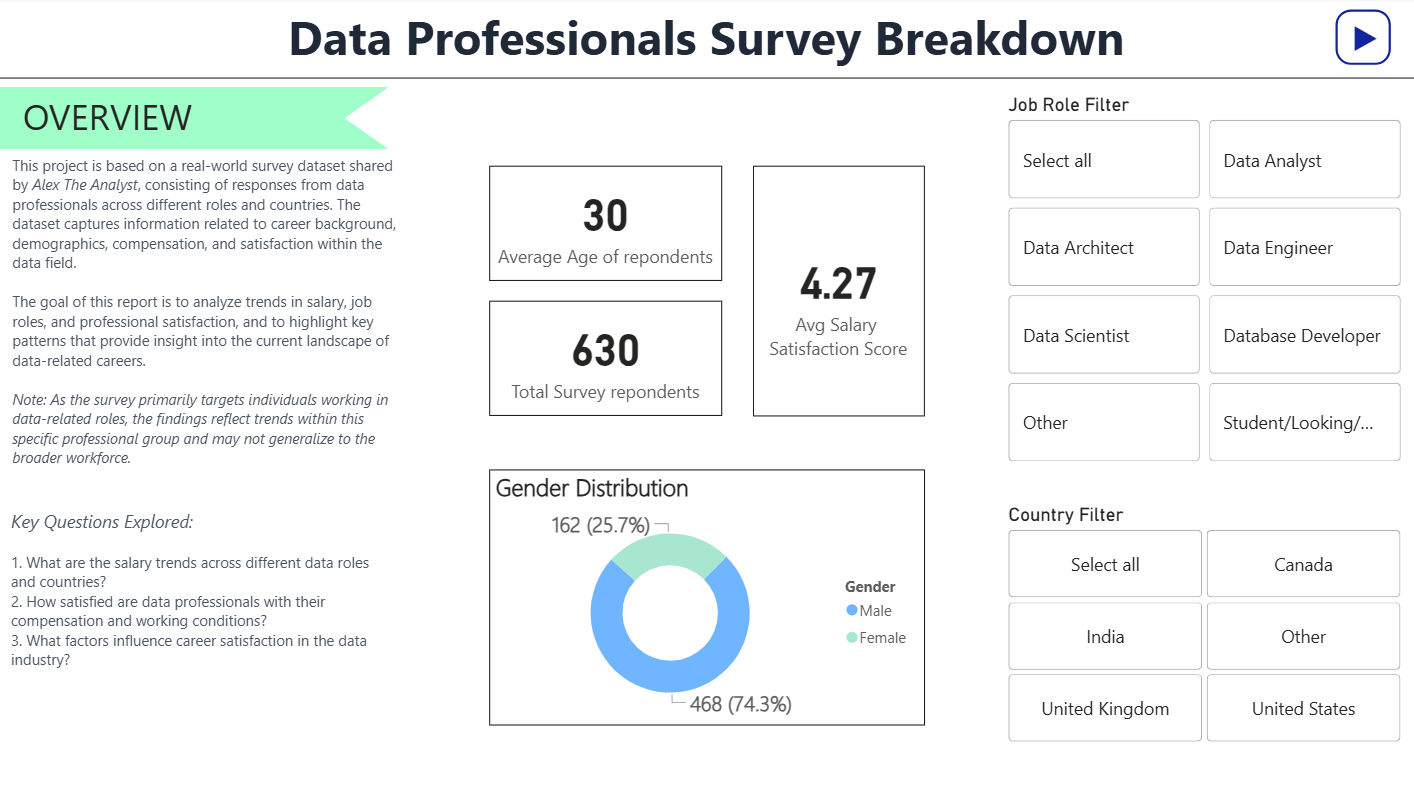

This screenshot's page, from the dashboard's own definition file:
{"tool":"powerbi","page":{"name":"Overview","canvas":[1280,720],"ordinal":0},"visuals":[{"type":"textbox","box":[0,0,1280.2,73.3],"z":0},{"type":"textbox","box":[7.5,137.8,358.2,301.8],"z":1000},{"type":"card","fields":{"Values":["Data Professional Survey.Unique ID"]},"box":[443.3,274.9,210.8,104.2],"z":2000},{"type":"card","fields":{"Values":["Data Professional Survey.Q10 - Current Age"]},"box":[443.3,152.6,210.8,104.2],"z":3000},{"type":"advancedSlicerVisual","fields":{"Values":["Data Professional Survey.Q11 - Which Country do you live in?"]},"box":[908.1,457,364.2,222],"z":4000},{"type":"advancedSlicerVisual","fields":{"Values":["Data Professional Survey.Q1 - Which Title Best Fits your Current Role?"]},"box":[908.1,86.9,364.2,340.7],"z":5000},{"type":"donutChart","title":"Gender Distribution","fields":{"Category":["Data Professional Survey.Q9 - Male/Female?"],"Y":["Data Professional Survey.Unique ID"]},"box":[443.3,426.3,393.6,231.3],"z":7000},{"type":"actionButton","box":[1208.1,11.6,50,50],"z":8000},{"type":"card","fields":{"Values":["Data Professional Survey.Q6 - How Happy are you in your Current Position with the following? (Salary)"]},"box":[681.9,152.6,155,226.5],"z":9000},{"type":"textbox","box":[0,81.4,351.9,56.4],"z":10000},{"type":"shape","box":[313,81.4,40.1,56.4],"z":11000},{"type":"textbox","box":[7,457,345.3,158.1],"z":11001}]}

Visuals, with their boxes in screenshot pixels (x1, y1, x2, y2), scaled from the page's 1280x720 canvas onto the 1414x792 screenshot:
textbox: [left=0, top=0, right=1413, bottom=81]
textbox: [left=8, top=152, right=404, bottom=484]
card - Data Professional Survey.Unique ID: [left=490, top=302, right=723, bottom=417]
card - Data Professional Survey.Q10 - Current Age: [left=490, top=168, right=723, bottom=282]
advancedSlicerVisual - Data Professional Survey.Q11 - Which Country do you live in?: [left=1003, top=503, right=1405, bottom=747]
advancedSlicerVisual - Data Professional Survey.Q1 - Which Title Best Fits your Current Role?: [left=1003, top=96, right=1405, bottom=470]
"Gender Distribution" donutChart: [left=490, top=469, right=925, bottom=723]
actionButton: [left=1335, top=13, right=1390, bottom=68]
card - Data Professional Survey.Q6 - How Happy are you in your Current Position with the following? (Salary): [left=753, top=168, right=925, bottom=417]
textbox: [left=0, top=90, right=389, bottom=152]
shape: [left=346, top=90, right=390, bottom=152]
textbox: [left=8, top=503, right=389, bottom=677]
